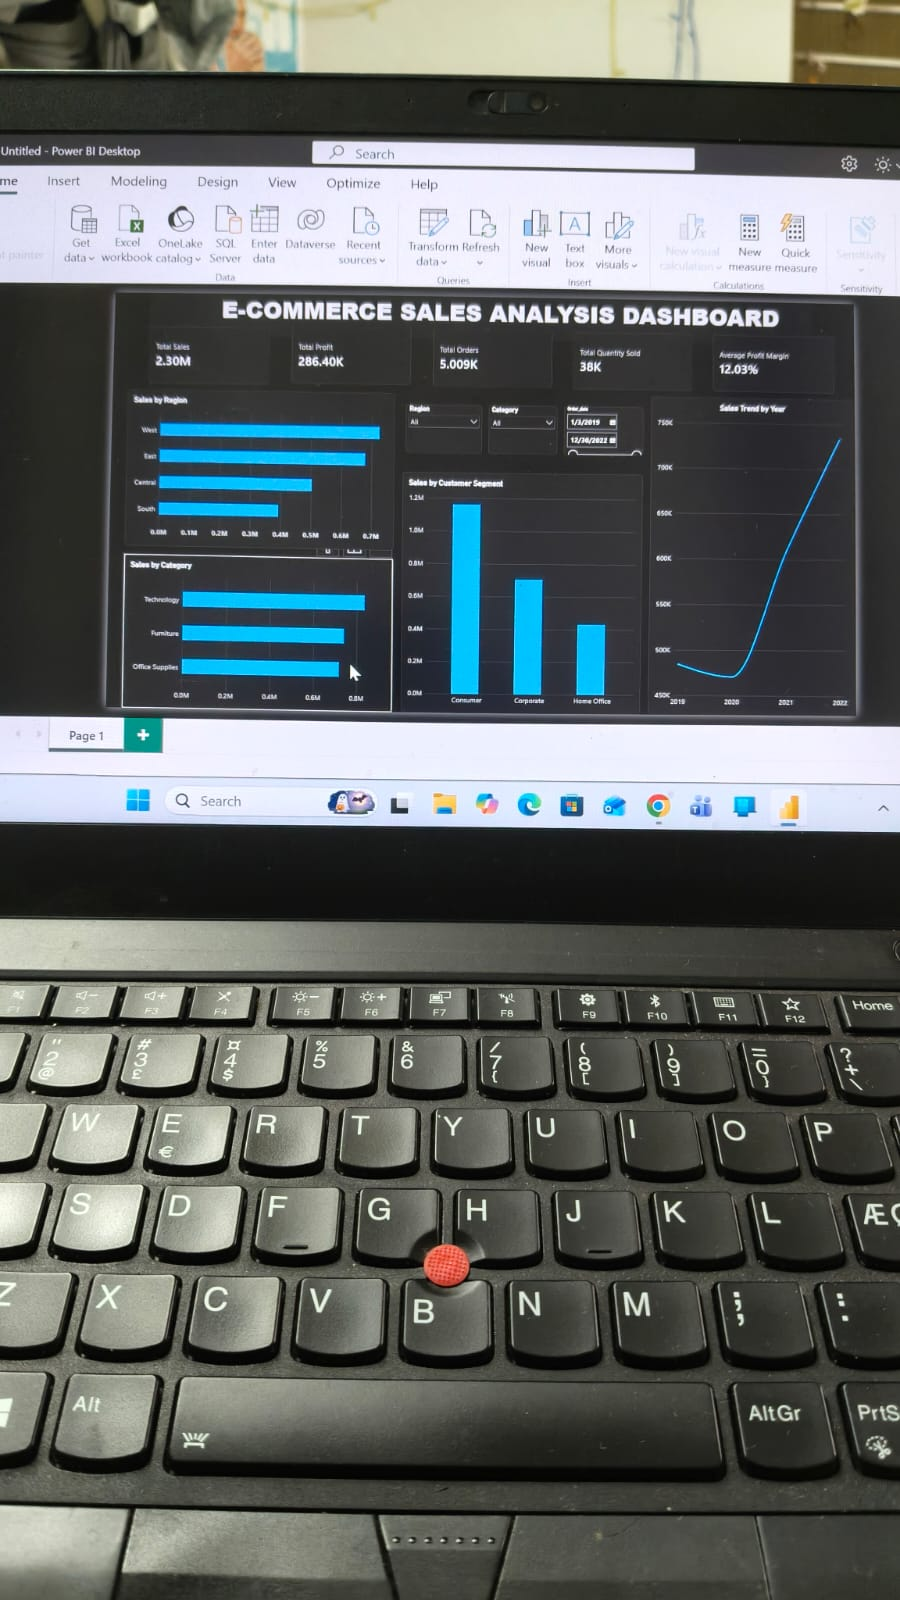

What the dashboard file says about the page in this screenshot:
{"tool":"powerbi","page":{"name":"Page 1","canvas":[1920,1080],"ordinal":0},"visuals":[{"type":"textbox","box":[93.5,0,1717.8,113.4],"z":0},{"type":"cardVisual","fields":{"Data":["Sum(excel sheet.sales)"]},"box":[92.5,90,310,150],"z":1000},{"type":"cardVisual","fields":{"Data":["Sum(excel sheet.profit)"]},"box":[460,87.5,309,147.4],"z":2000},{"type":"cardVisual","fields":{"Data":["Count(excel sheet.order_id)"]},"box":[825,87.5,309,150.2],"z":3000},{"type":"cardVisual","fields":{"Data":["Sum(excel sheet.quantity)"]},"box":[1187.5,90,309,150.2],"z":4000},{"type":"cardVisual","fields":{"Data":["Avg(excel sheet.profit_margin)"]},"box":[1550,90,317.5,150.2],"z":5000},{"type":"clusteredBarChart","title":"Sales by Category","fields":{"Category":["excel sheet.category"],"Y":["Sum(excel sheet.sales)"]},"box":[40,685,687.5,395],"z":6000},{"type":"clusteredBarChart","title":"Sales by Region","fields":{"Category":["excel sheet.region"],"Y":["Sum(excel sheet.sales)"]},"box":[40,257.5,687.5,405],"z":7000},{"type":"lineChart","title":"Sales Trend by Year","fields":{"Category":["excel sheet.order_date.Variation.Date Hierarchy.Year"],"Y":["Sum(excel sheet.sales)"]},"box":[1390,257.5,525,822.5],"z":8000},{"type":"clusteredColumnChart","title":"Sales by Customer Segment","fields":{"Category":["excel sheet.segment"],"Y":["Sum(excel sheet.sales)"]},"box":[750,460,620,620],"z":9000},{"type":"slicer","fields":{"Values":["excel sheet.region"]},"box":[757.5,285,195,125],"z":10000},{"type":"slicer","fields":{"Values":["excel sheet.category"]},"box":[970,285,177.5,125],"z":11000},{"type":"slicer","fields":{"Values":["excel sheet.order_date"]},"box":[1165,285,205,125],"z":12000}]}

Visuals, with their boxes on the page's 1920x1080 design canvas (x1, y1, x2, y2). These are canvas units, not pixel positions in the 900x1600 screenshot, which may show the page scaled, cropped or inside an application window:
textbox: {"left": 94, "top": 0, "right": 1811, "bottom": 113}
cardVisual - Sum(excel sheet.sales): {"left": 92, "top": 90, "right": 402, "bottom": 240}
cardVisual - Sum(excel sheet.profit): {"left": 460, "top": 88, "right": 769, "bottom": 235}
cardVisual - Count(excel sheet.order_id): {"left": 825, "top": 88, "right": 1134, "bottom": 238}
cardVisual - Sum(excel sheet.quantity): {"left": 1188, "top": 90, "right": 1496, "bottom": 240}
cardVisual - Avg(excel sheet.profit_margin): {"left": 1550, "top": 90, "right": 1868, "bottom": 240}
"Sales by Category" clusteredBarChart: {"left": 40, "top": 685, "right": 728, "bottom": 1080}
"Sales by Region" clusteredBarChart: {"left": 40, "top": 258, "right": 728, "bottom": 662}
"Sales Trend by Year" lineChart: {"left": 1390, "top": 258, "right": 1915, "bottom": 1080}
"Sales by Customer Segment" clusteredColumnChart: {"left": 750, "top": 460, "right": 1370, "bottom": 1080}
slicer - excel sheet.region: {"left": 758, "top": 285, "right": 952, "bottom": 410}
slicer - excel sheet.category: {"left": 970, "top": 285, "right": 1148, "bottom": 410}
slicer - excel sheet.order_date: {"left": 1165, "top": 285, "right": 1370, "bottom": 410}
